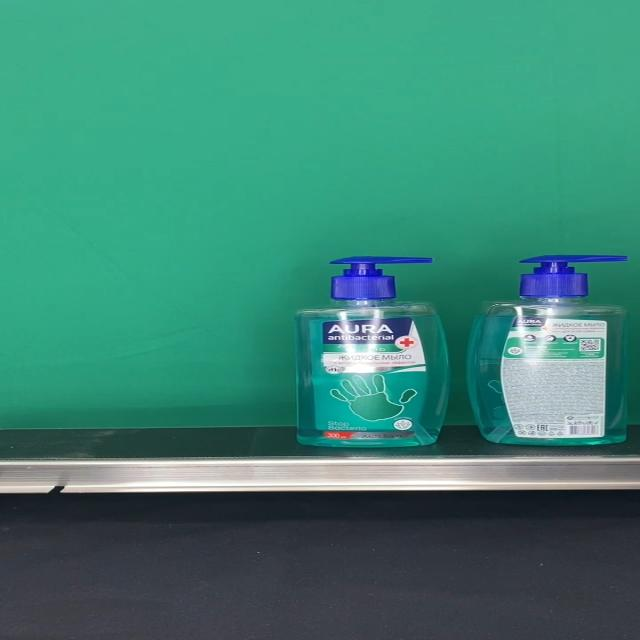Bottle: (466, 254, 629, 445), (295, 256, 449, 448)
Cap: (518, 254, 627, 298), (328, 256, 432, 300)
